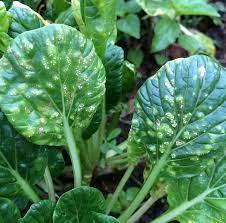Bok-Choy-Diseased: (2, 27, 104, 143), (135, 58, 226, 158)
